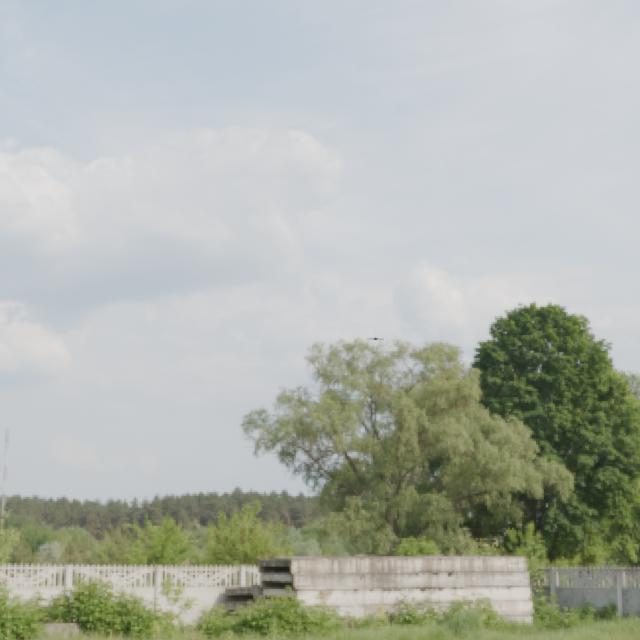Airaplan: (367, 337, 384, 341)
